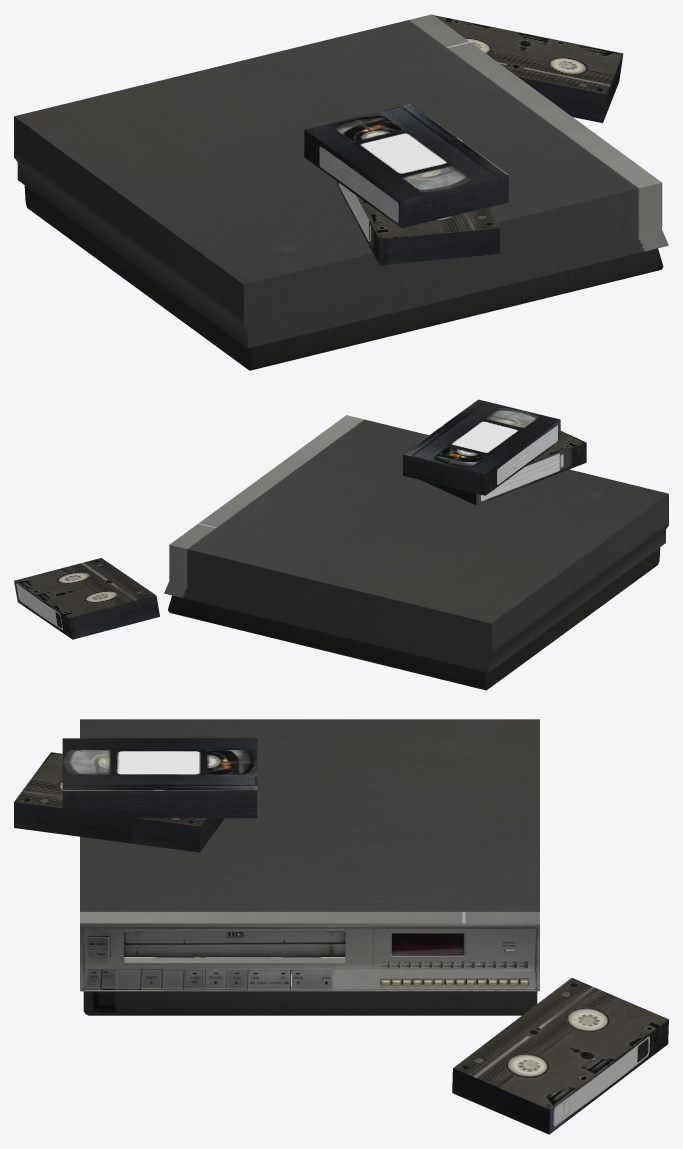
The model's file is VCR_Set_Nico_Perry.fbx.
3 views of the same model, one above another, from view 1: azimuth 30°, elevation 25°; view 2: azimuth 150°, elevation 25°; view 3: azimuth 270°, elevation 25° (orthographic). The views are drawn at different scales.
Parts seen in each view (by area): view 1: VCR_Shell, VHS2_1, VCR_Bottom, VHS4_1, VHS1_1; view 2: VCR_Shell, VHS2_1, VCR_Bottom, VHS4_1, VHS1_1; view 3: VCR_Shell, VHS4_1, VHS2_1, VCR_Base, VCR_Bottom, VHS1_1, VCRVHS_drive_1, VCR_screen, vcrbutton9, vcrbutton10.
Part boxes in pixels (left/top/right/bottom): VCR_Shell: left=14, top=14, right=668, bottom=348; VHS2_1: left=304, top=103, right=508, bottom=228; VCR_Bottom: left=24, top=185, right=663, bottom=370; VHS4_1: left=433, top=15, right=623, bottom=122; VHS1_1: left=337, top=182, right=499, bottom=265; VCR_Shell: left=164, top=415, right=668, bottom=672; VHS2_1: left=403, top=399, right=560, bottom=495; VCR_Bottom: left=168, top=547, right=660, bottom=690; VHS4_1: left=14, top=558, right=159, bottom=639; VHS1_1: left=421, top=431, right=586, bottom=505; VCR_Shell: left=80, top=719, right=539, bottom=991; VHS4_1: left=452, top=978, right=668, bottom=1134; VHS2_1: left=62, top=738, right=257, bottom=818; VCR_Base: left=83, top=928, right=536, bottom=989; VCR_Bottom: left=83, top=957, right=537, bottom=1015; VHS1_1: left=14, top=752, right=224, bottom=852; VCRVHS_drive_1: left=124, top=932, right=345, bottom=956; VCR_screen: left=392, top=933, right=463, bottom=955; vcrbutton9: left=248, top=969, right=290, bottom=990; vcrbutton10: left=291, top=969, right=332, bottom=990.
Size of the model in its own units: 294 by 78.29 by 271.
21 materials, 21 textured.
